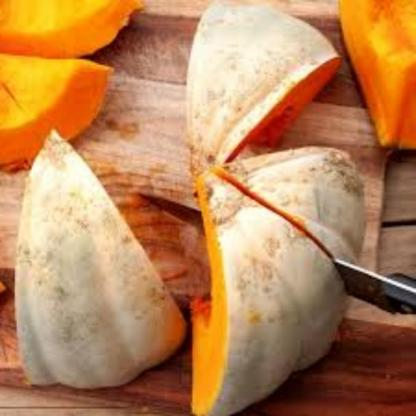pumpkin: (170, 146, 378, 415), (14, 126, 199, 384), (181, 0, 344, 174), (0, 48, 115, 172), (334, 0, 416, 167), (0, 0, 152, 67)
